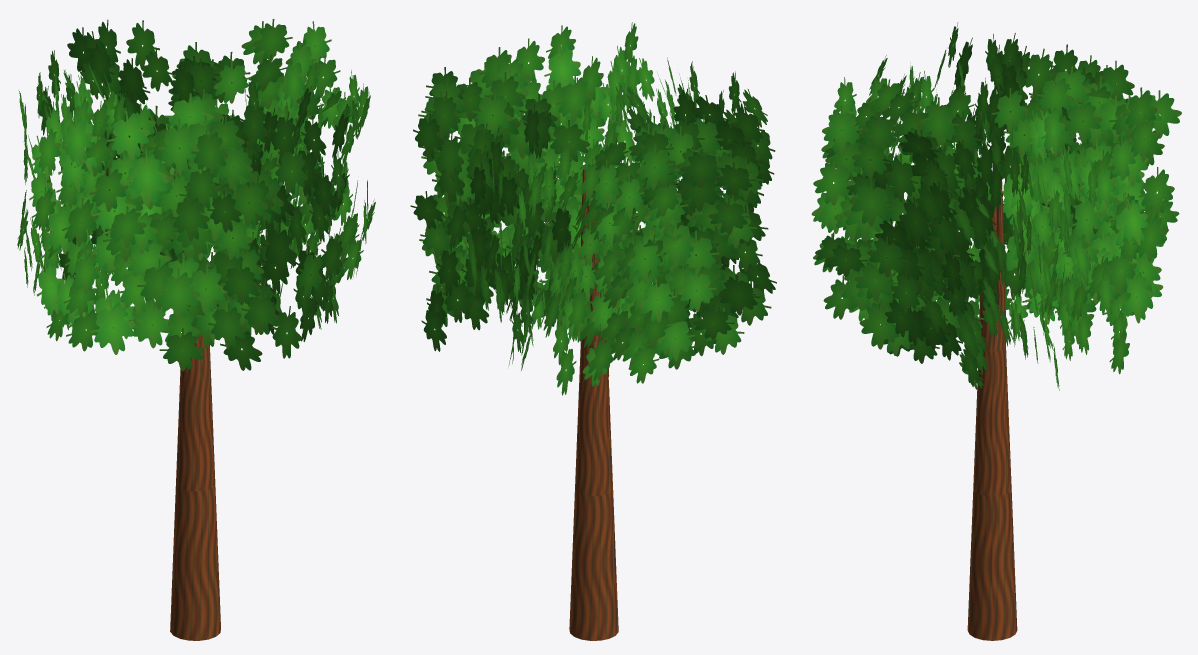
File: oak_tree_realistic.glb
The picture shows the model from 3 angles, left to right: view 1: azimuth 30°, elevation 25°; view 2: azimuth 150°, elevation 25°; view 3: azimuth 270°, elevation 25°; orthographic projection. The views are drawn at different scales.
Parts seen in each view (by area): view 1: leaves, trunk; view 2: leaves, trunk; view 3: leaves, trunk.
Part boxes in pixels (bbox=[...]): leaves: bbox=[17, 19, 375, 371]; trunk: bbox=[170, 251, 220, 640]; leaves: bbox=[410, 22, 776, 395]; trunk: bbox=[569, 169, 618, 640]; leaves: bbox=[811, 22, 1181, 390]; trunk: bbox=[967, 171, 1017, 640].
Size of the model in its own units: 5.67 by 9.23 by 5.71.
2 materials, 2 textured.
